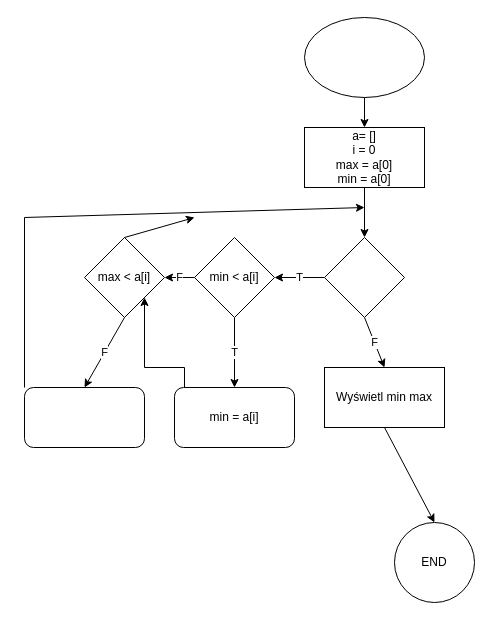
The diagram is 492 pixels wide and 620 high, and some of its shapes have lost their labels. Here are the shapes that lost their labels. From the top down, the box of each, then its label:
(304, 16, 424, 98): START
(324, 236, 404, 318): i < len(a)
(24, 386, 144, 448): max = a[i]
